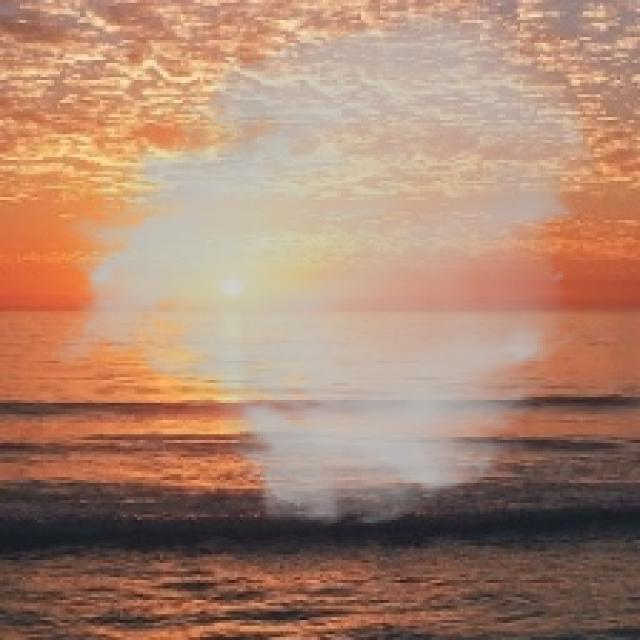Smoke: (49, 2, 600, 532)
